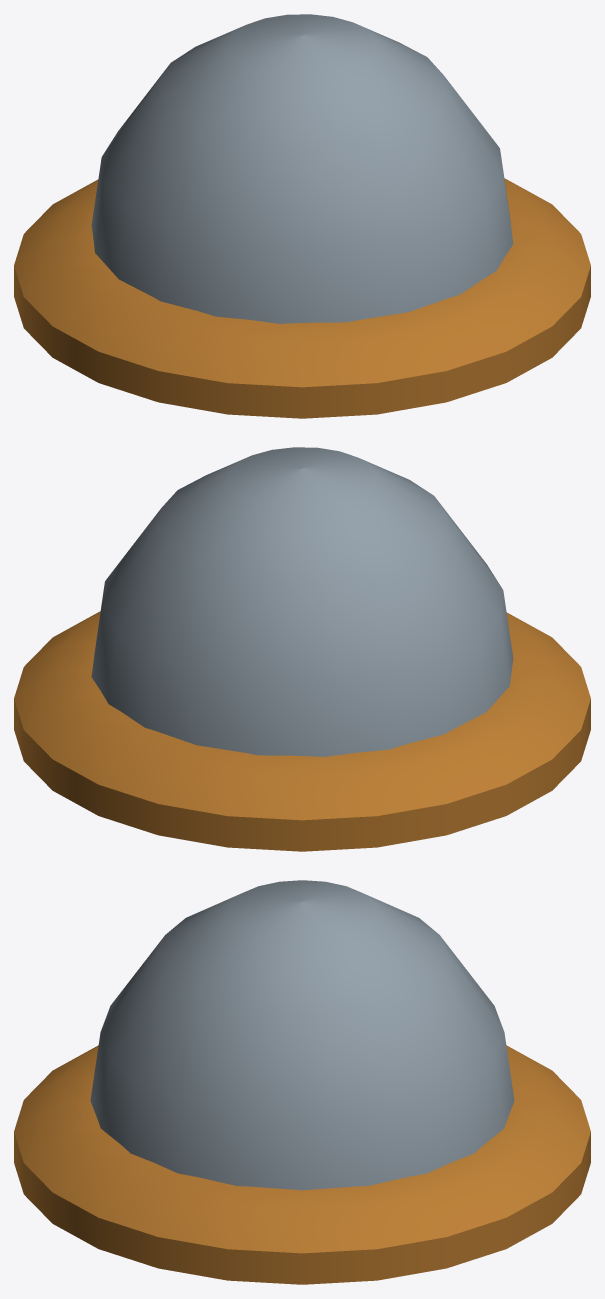
Rendered from stud.dae.
The picture shows the model from 3 angles, top to bottom: view 1: azimuth 30°, elevation 25°; view 2: azimuth 150°, elevation 25°; view 3: azimuth 270°, elevation 25°; orthographic projection.
Visible parts, largest first — view 1: metal, accent; view 2: metal, accent; view 3: metal, accent.
Boxes of the visible parts, x1=… form: metal: x1=91, y1=14, x2=513, y2=323; accent: x1=14, y1=178, x2=590, y2=418; metal: x1=91, y1=447, x2=513, y2=756; accent: x1=14, y1=611, x2=590, y2=851; metal: x1=90, y1=880, x2=514, y2=1190; accent: x1=14, y1=1045, x2=590, y2=1284.
Size of the model in its own units: 2 by 1 by 2.
